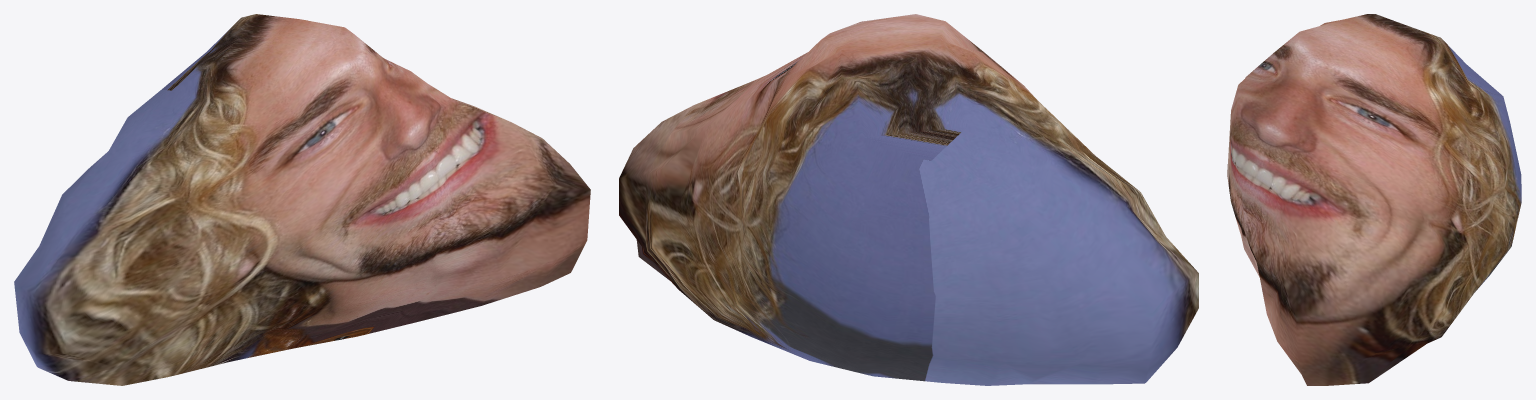
Rendered from kroeger-kroissant.glb.
The picture shows the model from 3 angles, left to right: view 1: azimuth 30°, elevation 25°; view 2: azimuth 150°, elevation 25°; view 3: azimuth 270°, elevation 25°; orthographic projection. The views are drawn at different scales.
Parts seen in each view (by area): view 1: Kroissant; view 2: Kroissant; view 3: Kroissant.
Boxes of the visible parts, bbox=[...] form: Kroissant: bbox=[14, 14, 590, 385]; Kroissant: bbox=[619, 14, 1198, 385]; Kroissant: bbox=[1227, 14, 1521, 385].
Bounding box in the file's own units: 1.73 × 0.9102 × 0.9178.
Materials: 1 (1 with a texture image).
